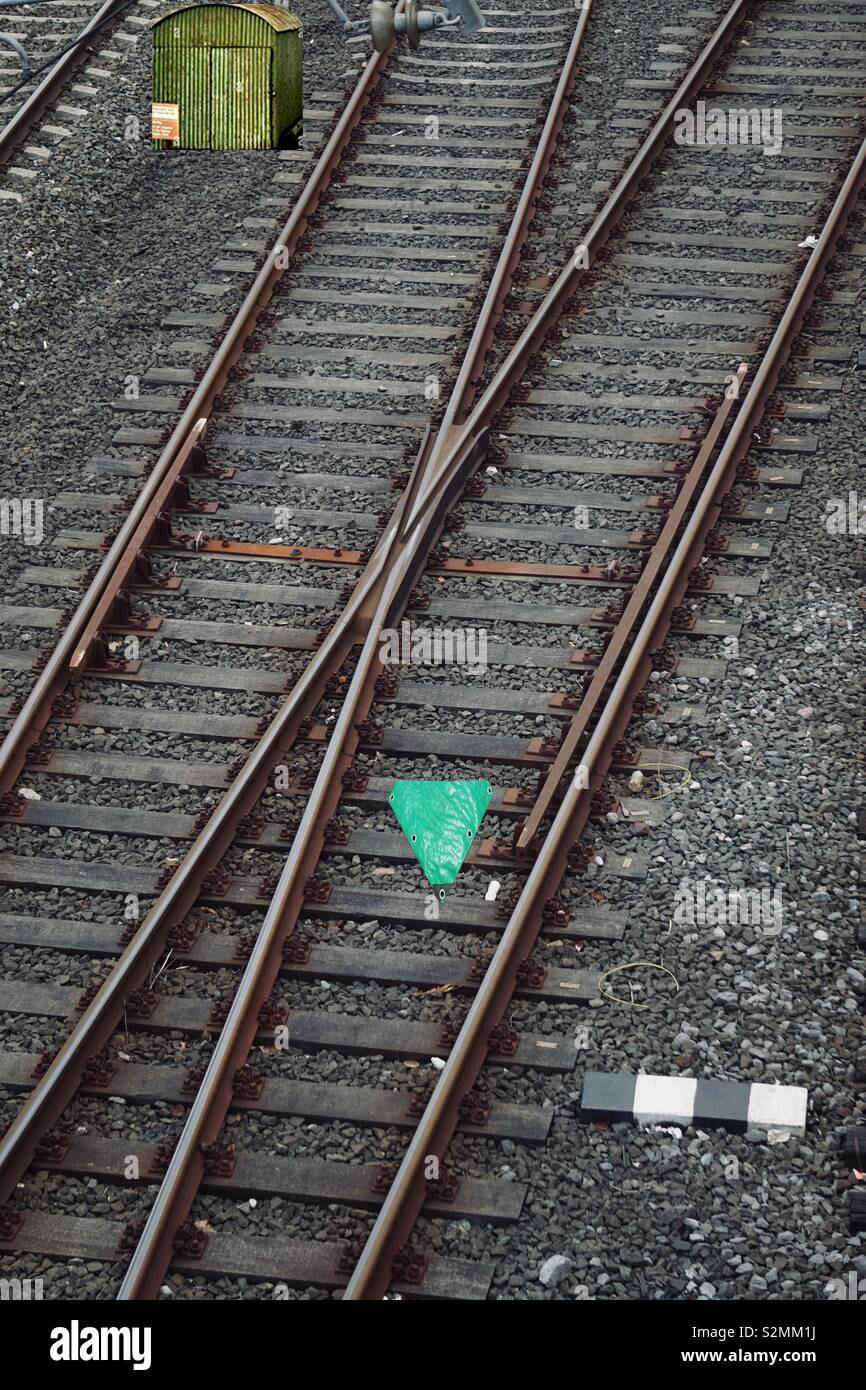Dust_screen: (375, 760, 490, 890)
Green_house: (128, 0, 310, 162)
